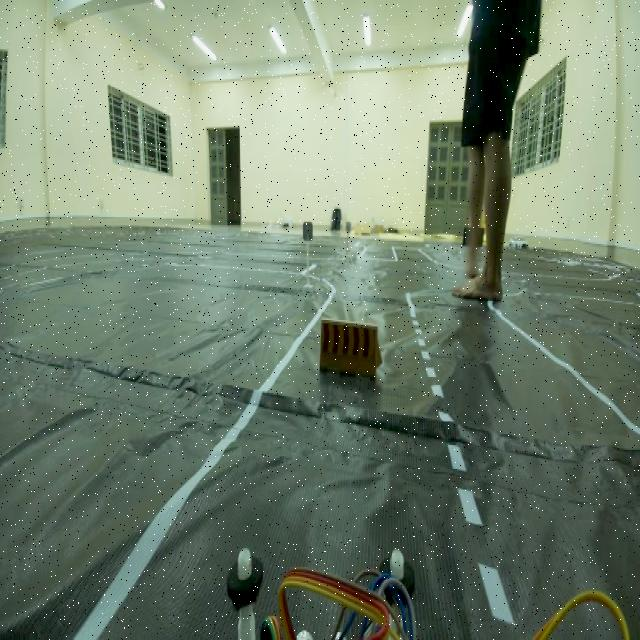roadblock: (314, 296, 389, 390)
